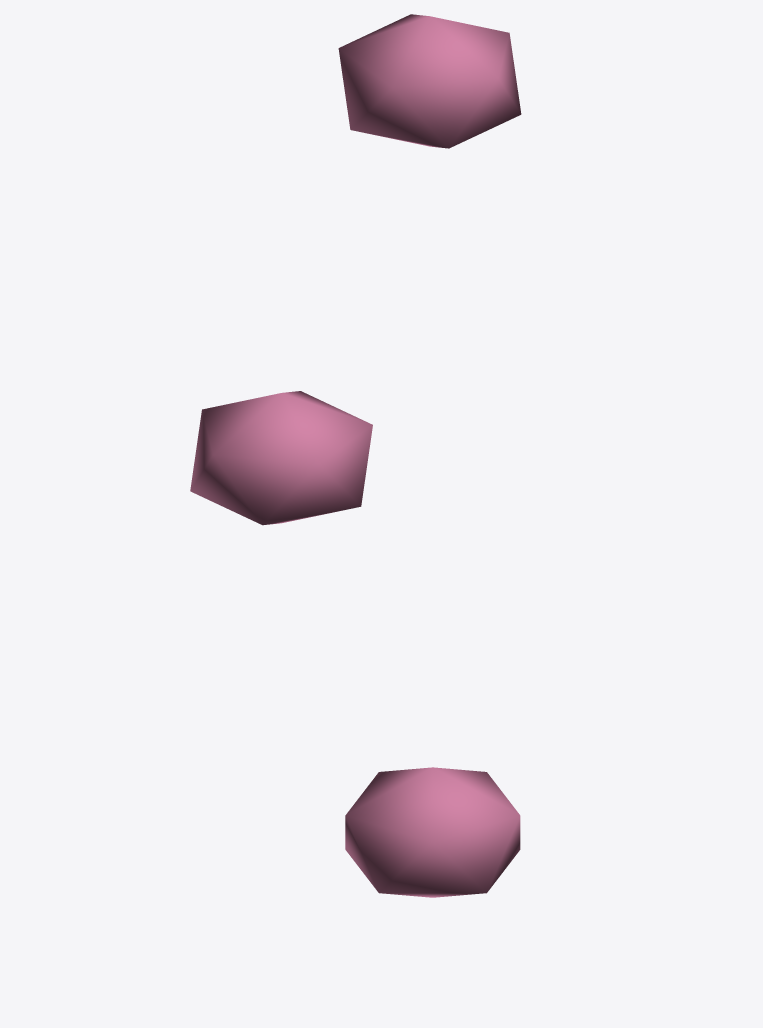
File: nufar.glb
The picture shows the model from 3 angles, top to bottom: view 1: azimuth 30°, elevation 25°; view 2: azimuth 150°, elevation 25°; view 3: azimuth 270°, elevation 25°; orthographic projection.
Visible parts, largest first — view 1: Frunze; view 2: Frunze; view 3: Frunze.
Part boxes in pixels (box(x1,y1,x2,y2)): Frunze: box(338, 14, 521, 148); Frunze: box(190, 391, 372, 525); Frunze: box(345, 767, 520, 897).
Bounding box in the file's own units: 0.429 × 0.084 × 0.429.
